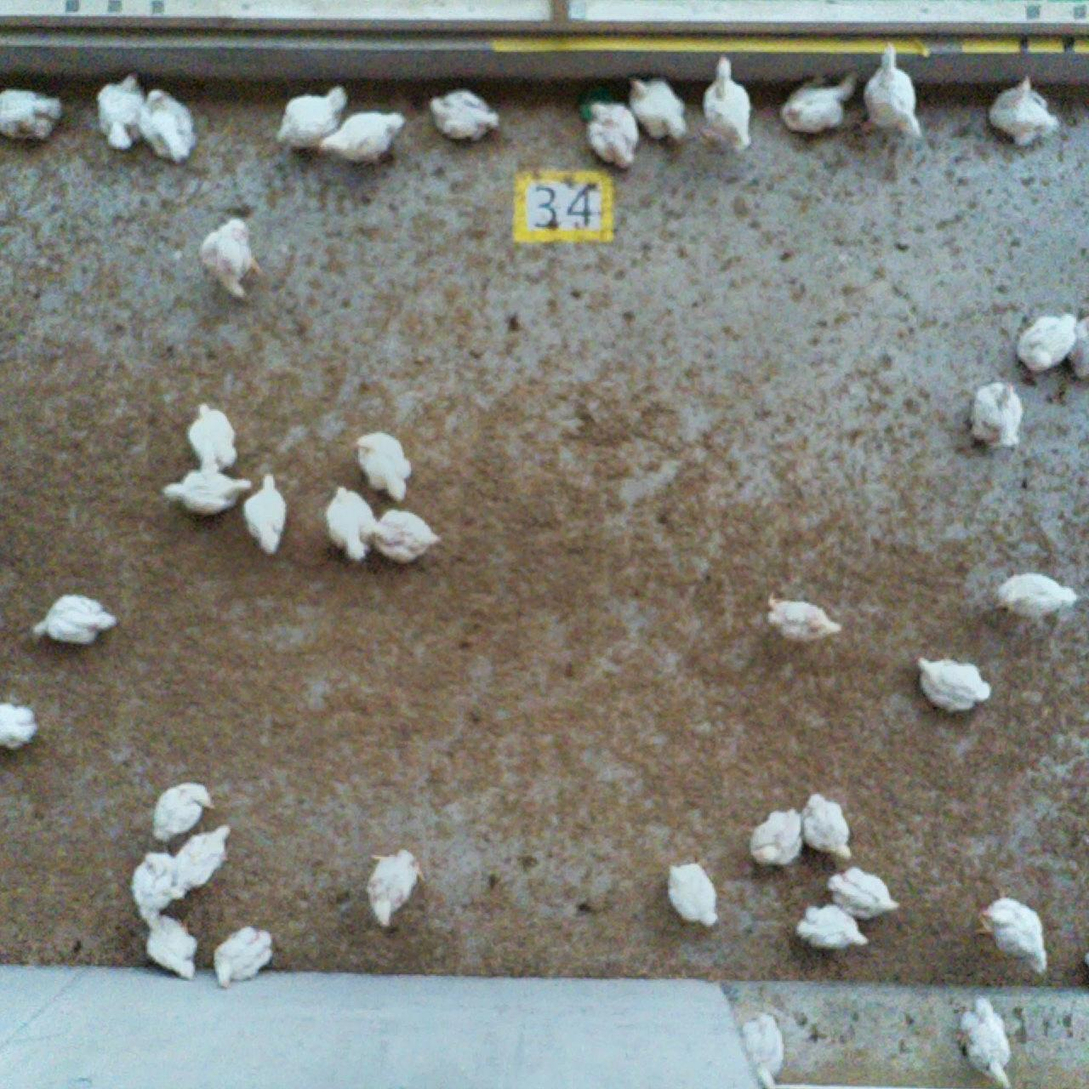chicken: (973, 892, 1054, 978), (860, 38, 921, 151), (191, 208, 263, 303), (704, 51, 762, 164), (576, 89, 647, 180), (986, 71, 1061, 156), (34, 584, 126, 653), (147, 468, 270, 518), (116, 847, 193, 925), (955, 993, 1014, 1089), (128, 82, 197, 164), (169, 825, 242, 898), (798, 790, 868, 866), (778, 73, 860, 137), (209, 921, 279, 995), (351, 427, 419, 502), (147, 782, 222, 849), (664, 854, 727, 933), (921, 653, 995, 720), (274, 83, 345, 152), (629, 72, 690, 148), (746, 807, 812, 877), (761, 593, 844, 647), (740, 1005, 793, 1089), (999, 566, 1077, 622), (426, 91, 506, 145), (368, 849, 420, 932), (969, 379, 1027, 453), (323, 111, 405, 163), (325, 485, 377, 566), (1013, 306, 1076, 372), (138, 914, 202, 978), (247, 472, 293, 561), (794, 906, 874, 955), (187, 405, 242, 473), (824, 866, 900, 915), (375, 510, 440, 566), (1, 86, 63, 140), (100, 71, 140, 150), (1066, 296, 1089, 395), (1, 710, 46, 754)
